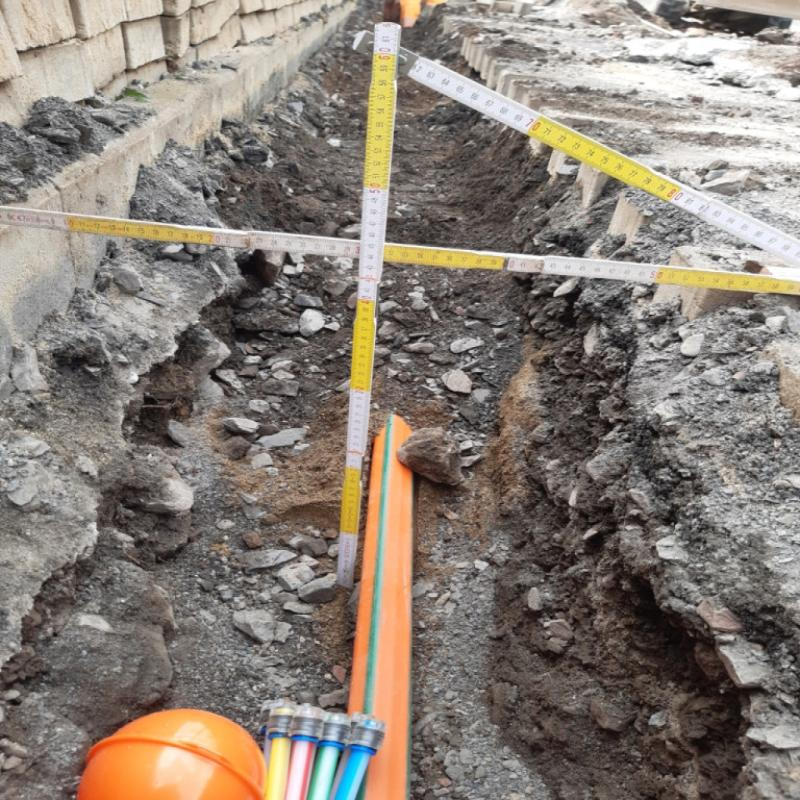Kugelmarker: (76, 711, 263, 799)
Orang-Speednetrohrchen: (343, 410, 417, 794)
